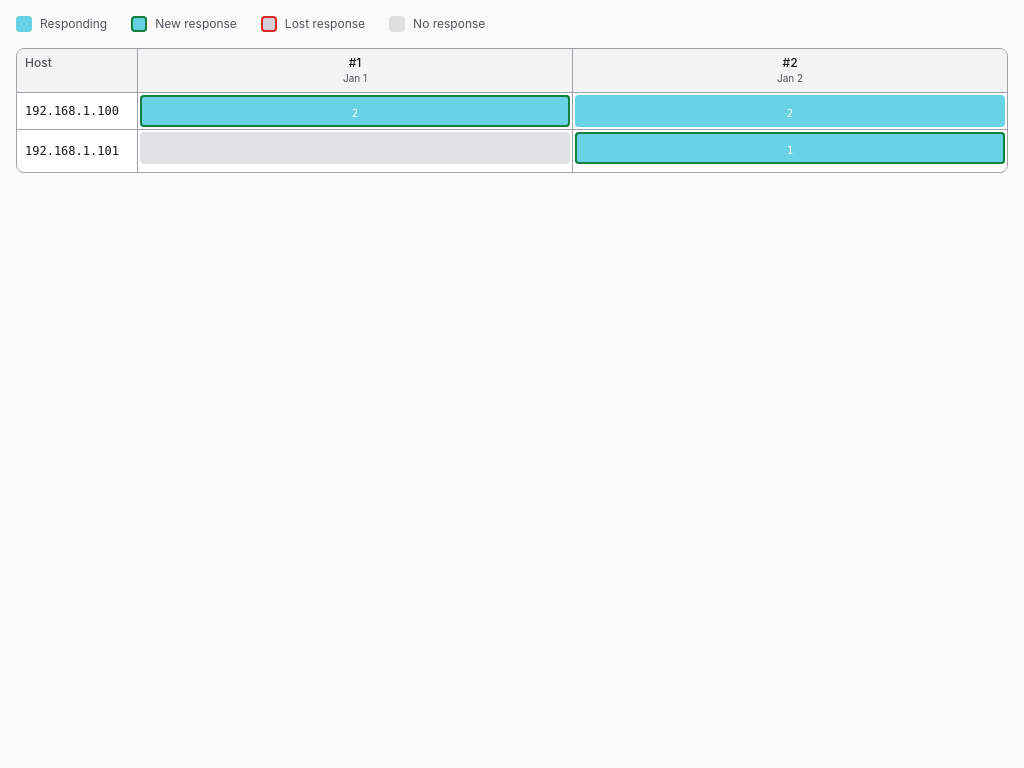
it: MatrixHeatmapView › opens port details dialog on cell click
The image size is (1024, 768).
Click the 2nd button "2" at (790, 111), box [575, 95, 1005, 127]
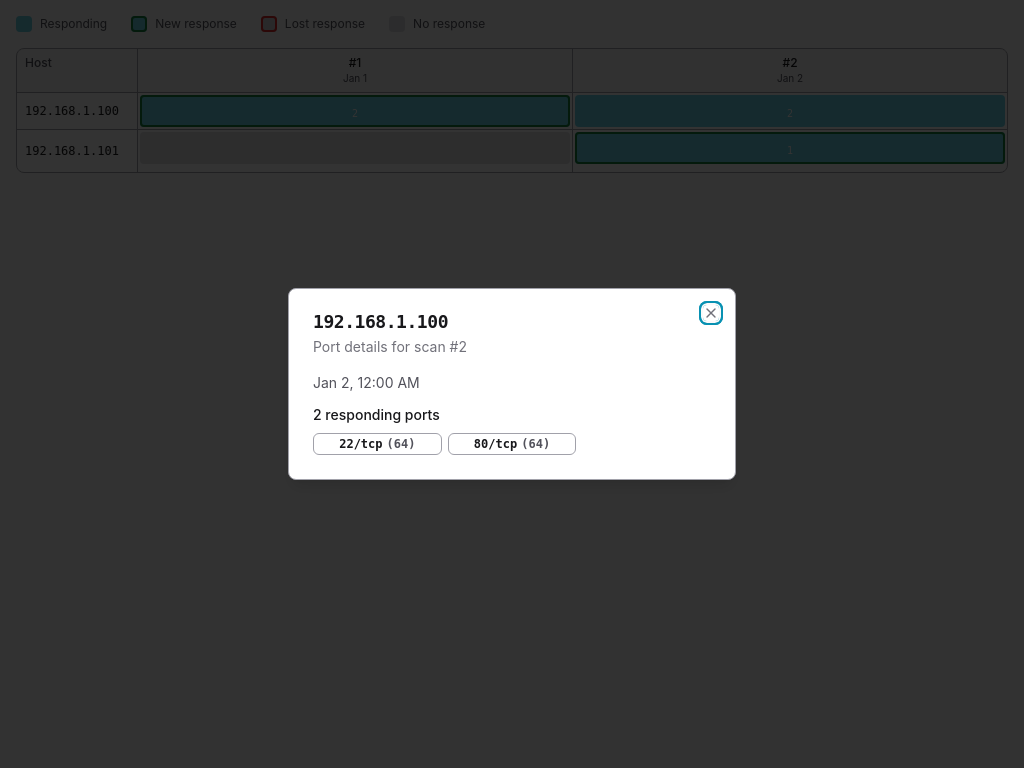
Expected: the dialog is shown, [288, 288, 736, 480]
